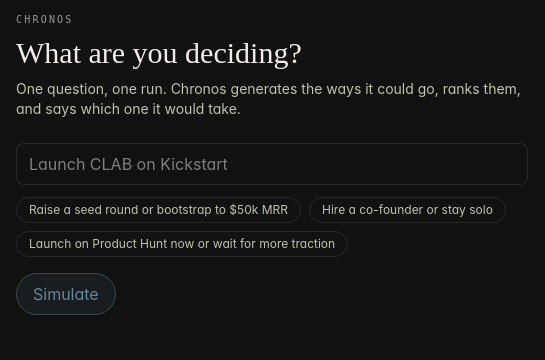
Test case: WorkspaceStart › does not submit an empty decision
This screenshot has width=545, height=360.
Step 1. Click the button "Simulate" → (66, 294), box [16,273,116,315]
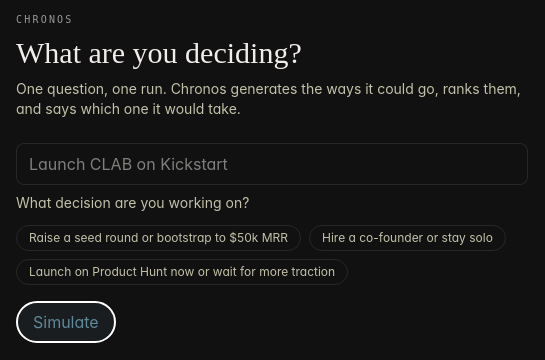
Expected: the text "What decision are you working on?" is shown, [16,194,249,211]
